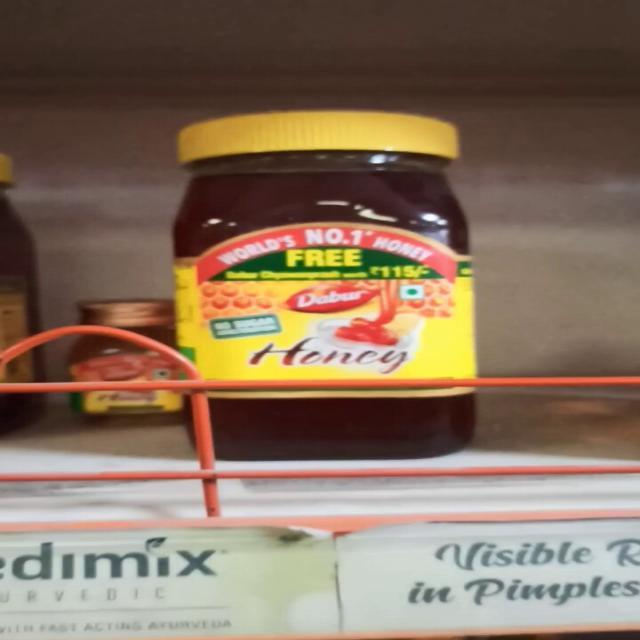Dabur Honey: (166, 110, 504, 465)
